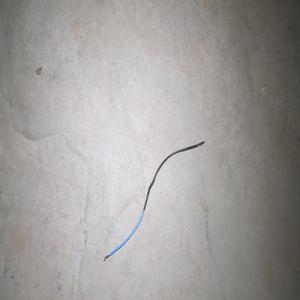Wire: (102, 140, 205, 261)
